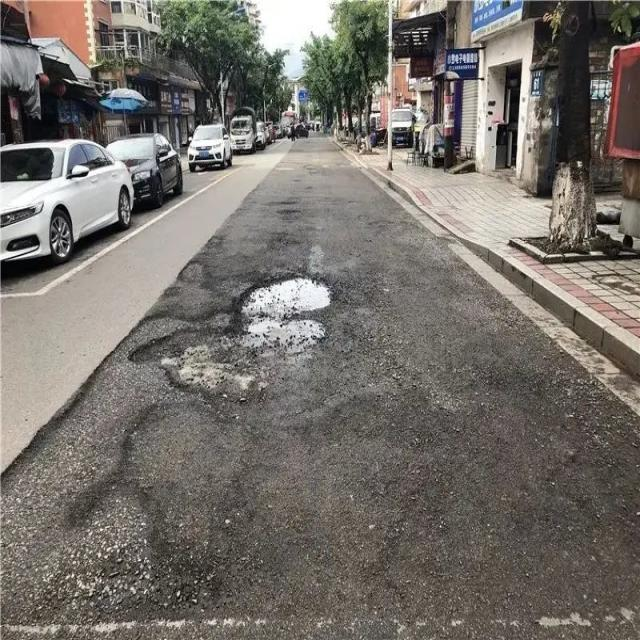Pothole: (67, 412, 279, 610), (138, 326, 282, 406), (235, 272, 342, 367)
